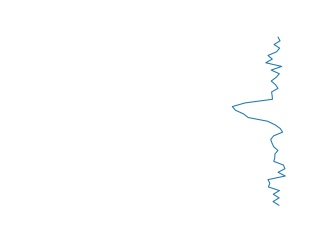interdistributaryEstuary: (228, 38, 291, 206)
